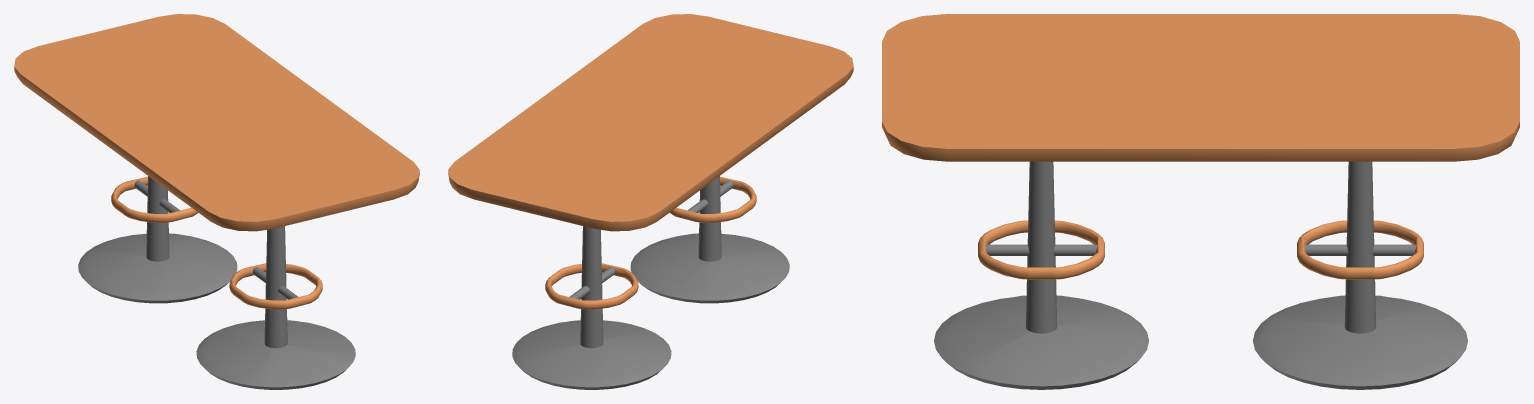
Rendered from Gelecek masa uzun.fbx.
3 renders of one model, left to right at view 1: azimuth 30°, elevation 25°; view 2: azimuth 150°, elevation 25°; view 3: azimuth 270°, elevation 25°, orthographic. The views are drawn at different scales.
Parts seen in each view (by area): view 1: Cube; view 2: Cube; view 3: Cube.
Boxes of the visible parts, x1,y1,x2,y2 form: Cube: [14, 14, 419, 389]; Cube: [448, 14, 853, 389]; Cube: [882, 14, 1519, 389].
Size of the model in its own units: 100 by 91.91 by 200.
